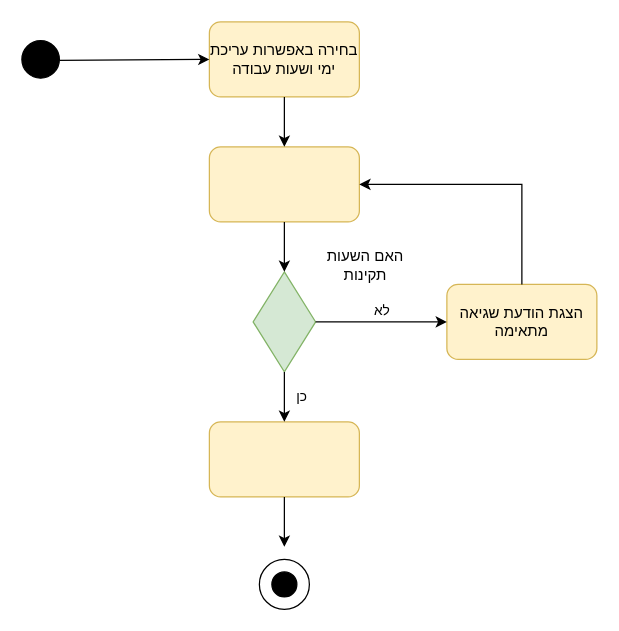
The diagram is 619 pixels wide and 631 high, and some of its shapes have lost their labels. The shapes that lost their labels are listed below. From the top down, each one's box as (x1, y1, x2, y2) in pixels, then its label:
(208, 146, 359, 222): עדכון ימי ושעות העבודה ולחיצה על שמירה
(208, 421, 359, 497): עדכון ימי ושעות העבודה במסד הנתונים והצגת הודעת אישור
